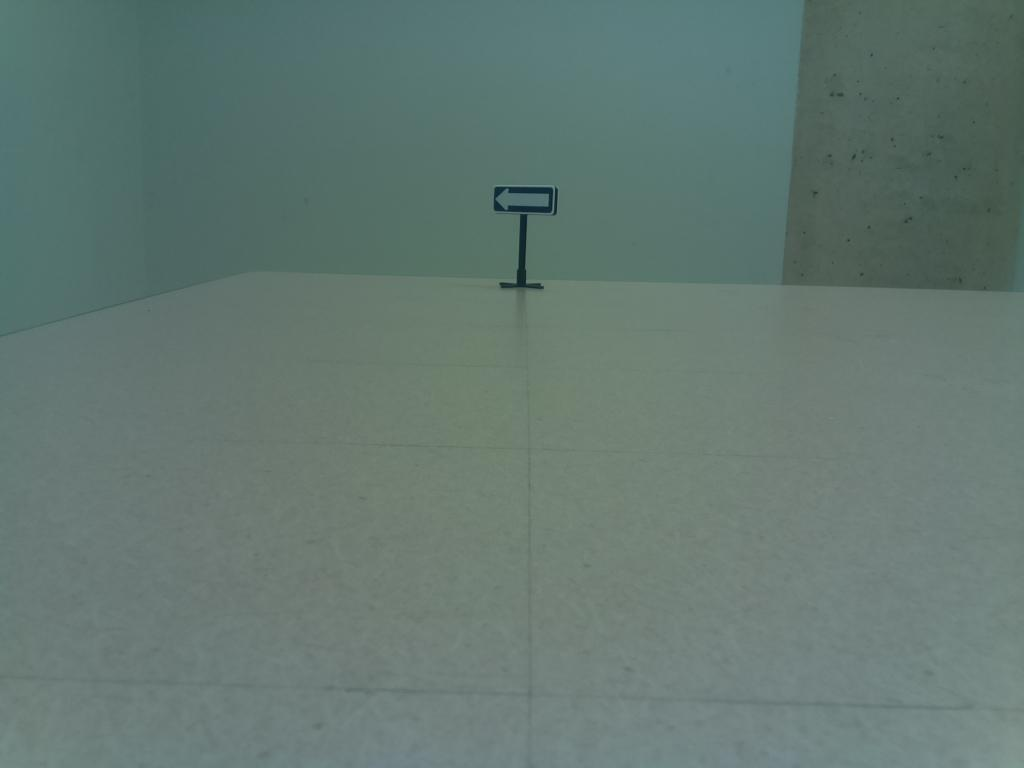sign_oneway_left: (488, 181, 563, 222)
